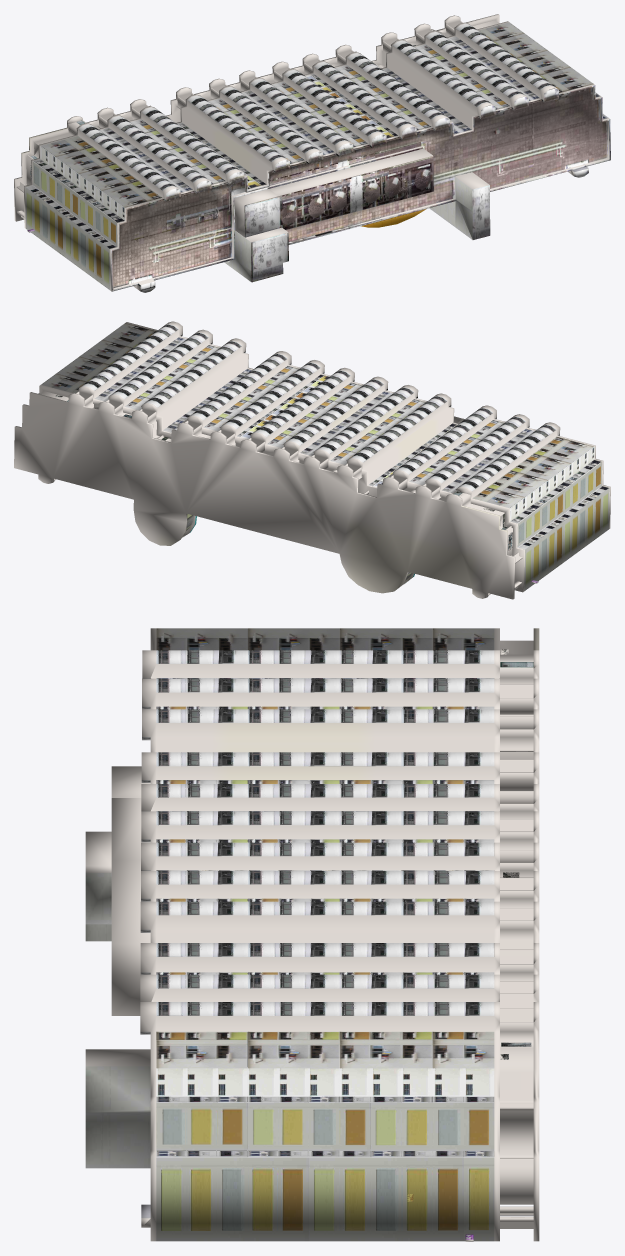
Rendered from amk_blk329_building.obj.
3 renders of one model, top to bottom at view 1: azimuth 30°, elevation 25°; view 2: azimuth 150°, elevation 25°; view 3: azimuth 270°, elevation 25°, orthographic. The views are drawn at different scales.
Parts seen in each view (by area): view 1: polygon.800; view 2: polygon.800; view 3: polygon.800.
Boxes of the visible parts, left/top/right/bottom form: polygon.800: left=14, top=14, right=610, bottom=292; polygon.800: left=14, top=321, right=610, bottom=599; polygon.800: left=85, top=628, right=539, bottom=1241.
Bounding box in the file's own units: 103 × 25.17 × 39.77.
Materials: 1 (1 with a texture image).
